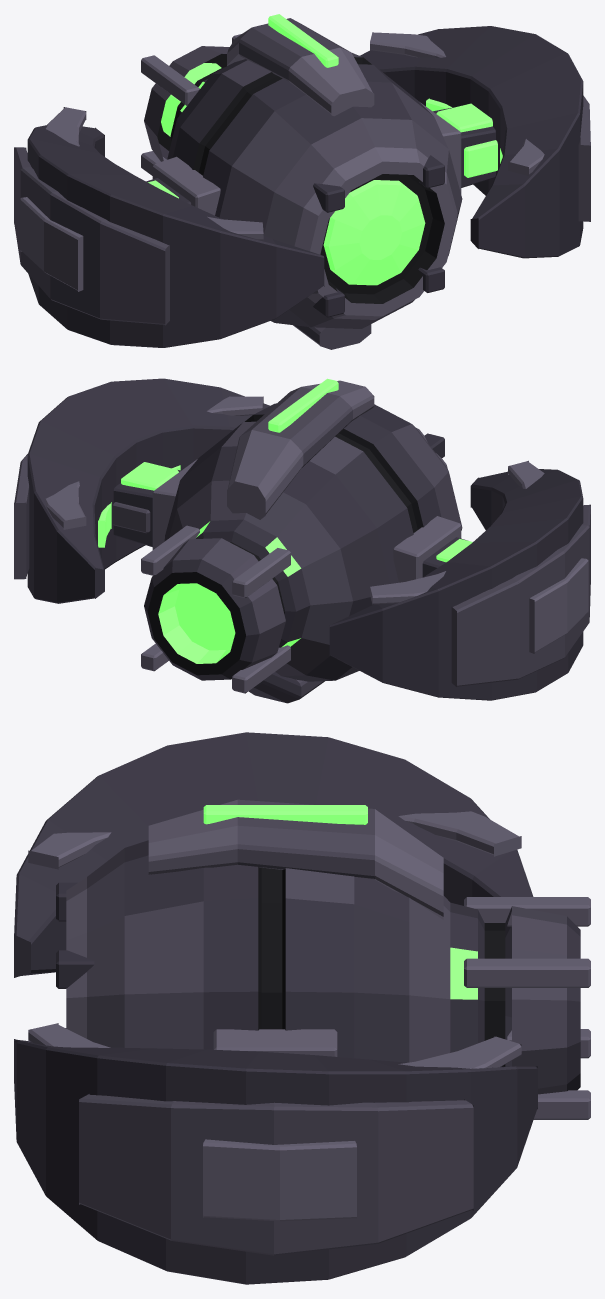
Rendered from alien-pod.glb.
The picture shows the model from 3 angles, top to bottom: view 1: azimuth 30°, elevation 25°; view 2: azimuth 150°, elevation 25°; view 3: azimuth 270°, elevation 25°; orthographic projection. The views are drawn at different scales.
Parts seen in each view (by area): view 1: Alien5; view 2: Alien5; view 3: Alien5.
Part boxes in pixels (bbox=[...]): Alien5: bbox=[14, 14, 590, 349]; Alien5: bbox=[14, 378, 590, 703]; Alien5: bbox=[14, 732, 590, 1284].
Size of the model in its own units: 2.44 by 1.25 by 1.68.
